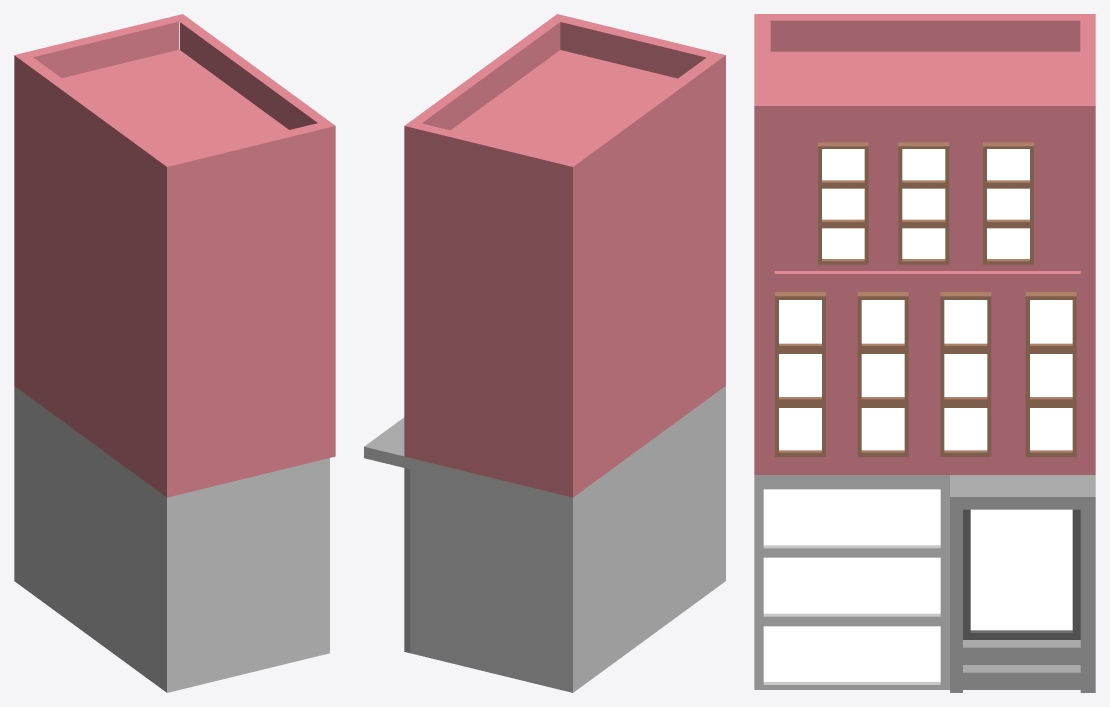
File: House 3.5.fbx
3 renders of one model, left to right at view 1: azimuth 30°, elevation 25°; view 2: azimuth 150°, elevation 25°; view 3: azimuth 270°, elevation 25°, orthographic. The views are drawn at different scales.
Visible parts, largest first — view 1: House 3.006; view 2: House 3.006; view 3: House 3.006.
Part boxes in pixels (x1,y1,x2,y2): House 3.006: [14, 14, 335, 692]; House 3.006: [364, 14, 725, 692]; House 3.006: [754, 14, 1095, 692].
Size of the model in its own units: 725 by 1743 by 919.
